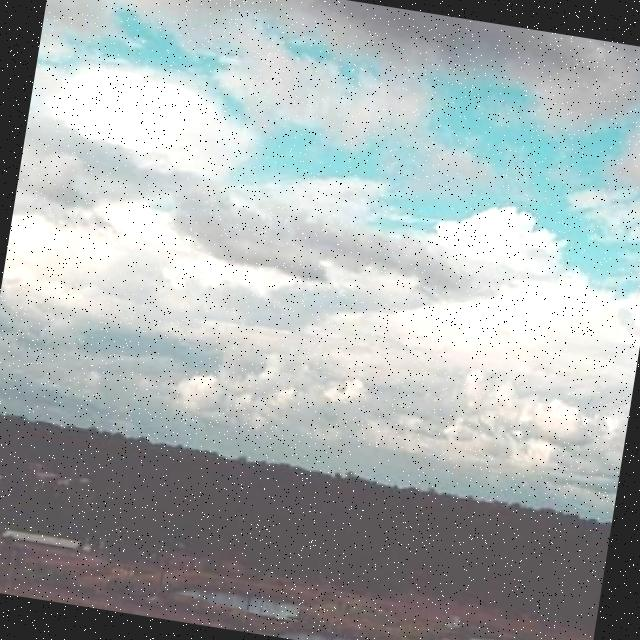Sc: (1, 1, 640, 480)
